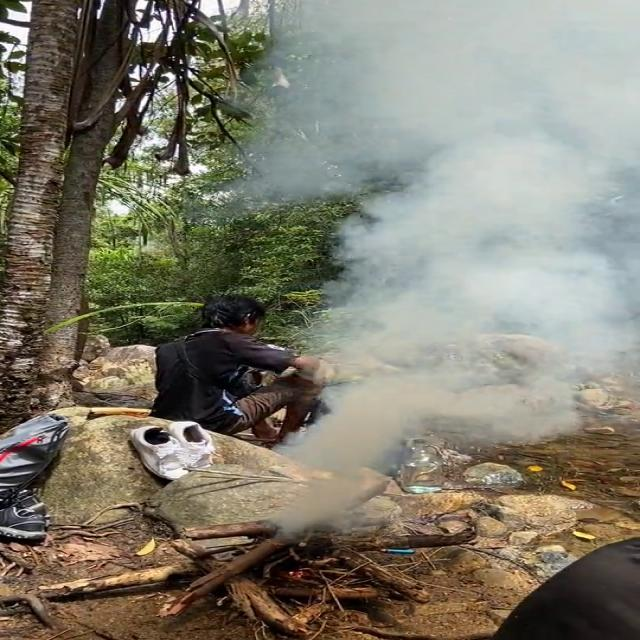smoke: (285, 1, 640, 152), (366, 278, 634, 392), (330, 196, 640, 293), (413, 134, 636, 240), (327, 382, 568, 438), (286, 428, 406, 493), (264, 135, 382, 188)
